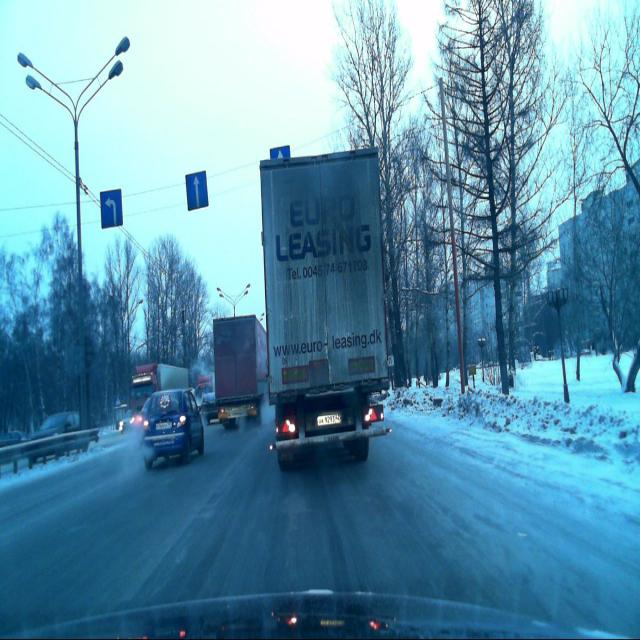road sign: (184, 172, 209, 210), (100, 190, 124, 227)
